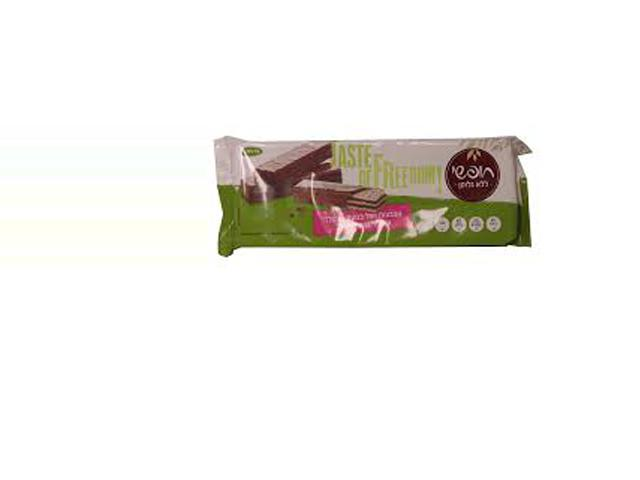chocolate: (214, 122, 541, 253)
